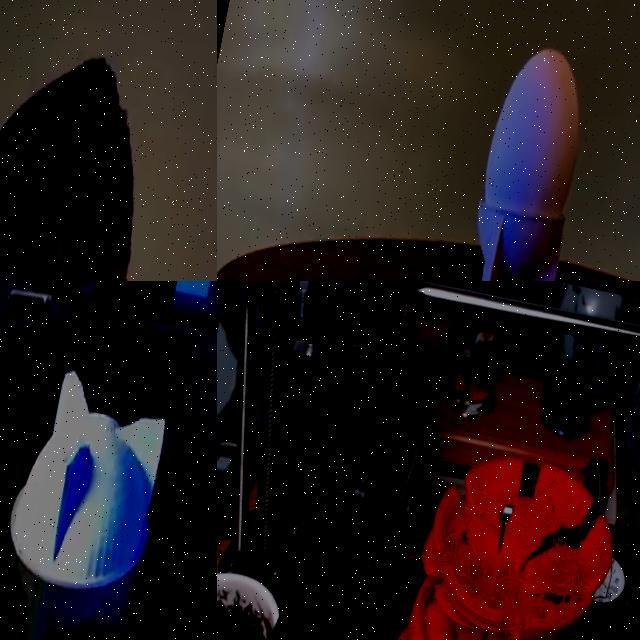spaghetti: (421, 460, 597, 627), (343, 557, 382, 605)
